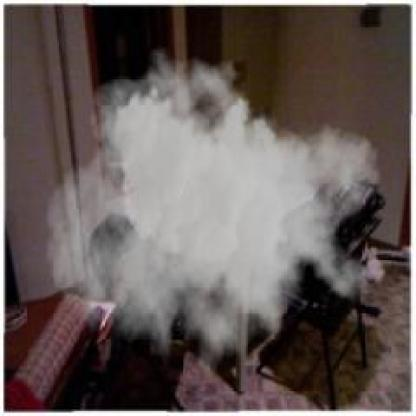Smoke: (44, 46, 382, 396)
